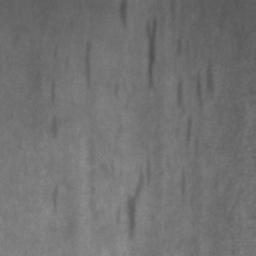Inclusion: (127, 179, 145, 236), (147, 20, 157, 81)
